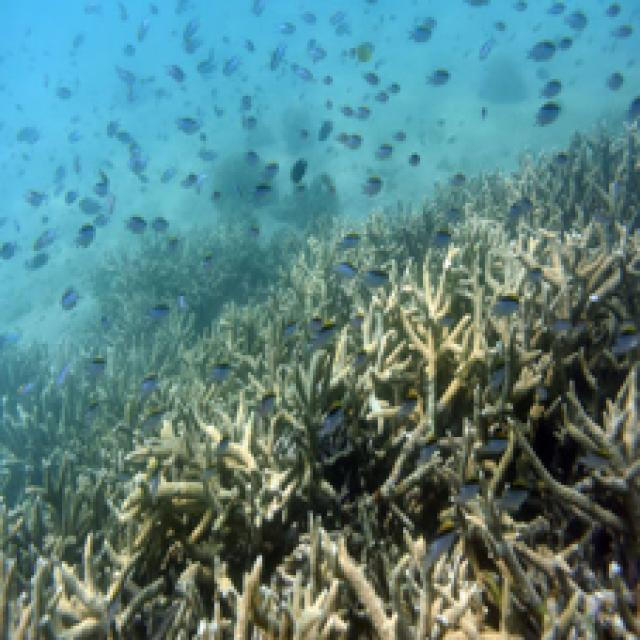Dead Coral: (85, 228, 629, 640)
